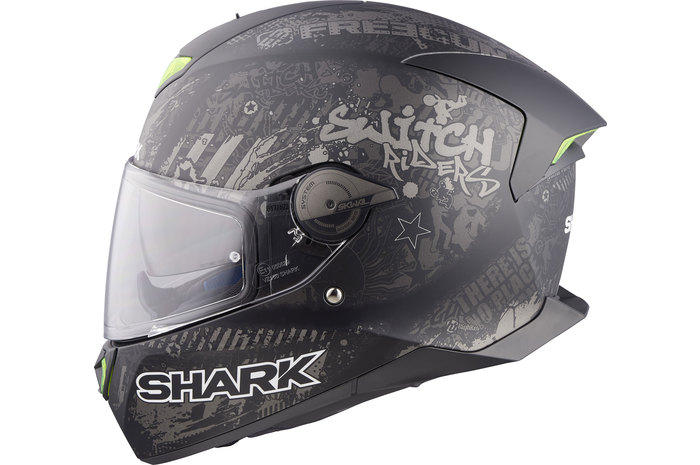with_helmet: (90, 1, 612, 464)
